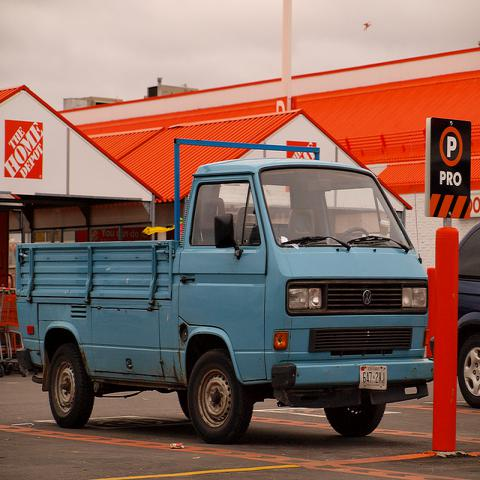car: (457, 222, 480, 410)
truck: (16, 141, 430, 440)
